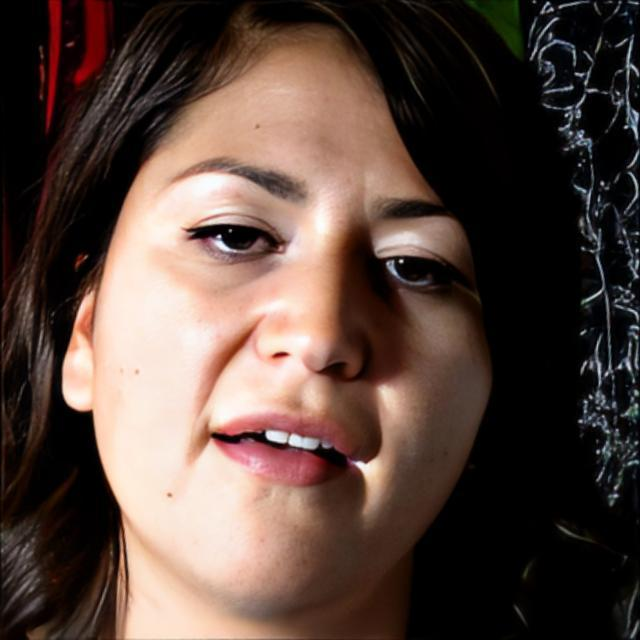disgust: (91, 25, 492, 618)
